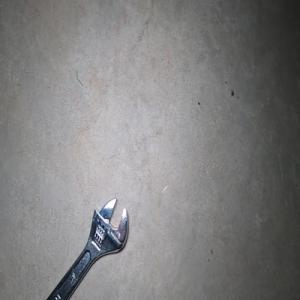Wrench: (46, 197, 128, 300)
